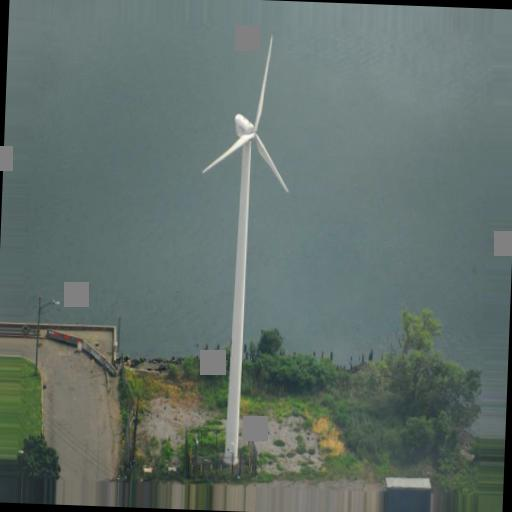wind turbine: (200, 34, 292, 464)
